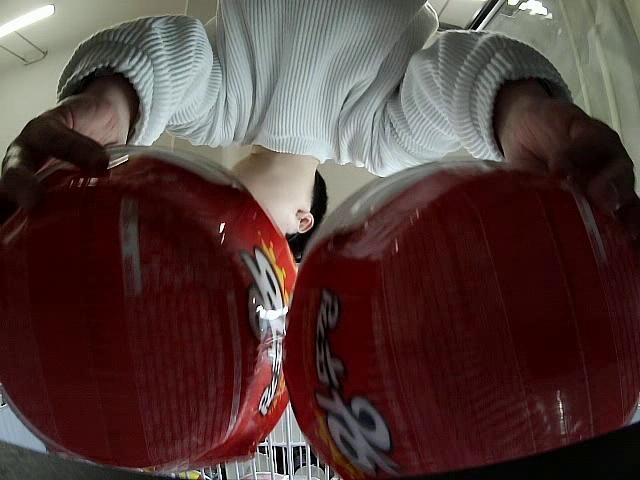10_wangTtukkeong: (279, 156, 640, 480), (0, 136, 302, 470)
